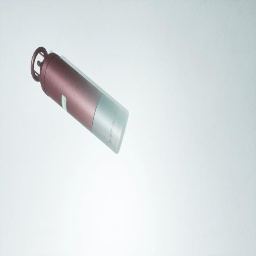NitrogenTank ,: (31, 47, 128, 154)
